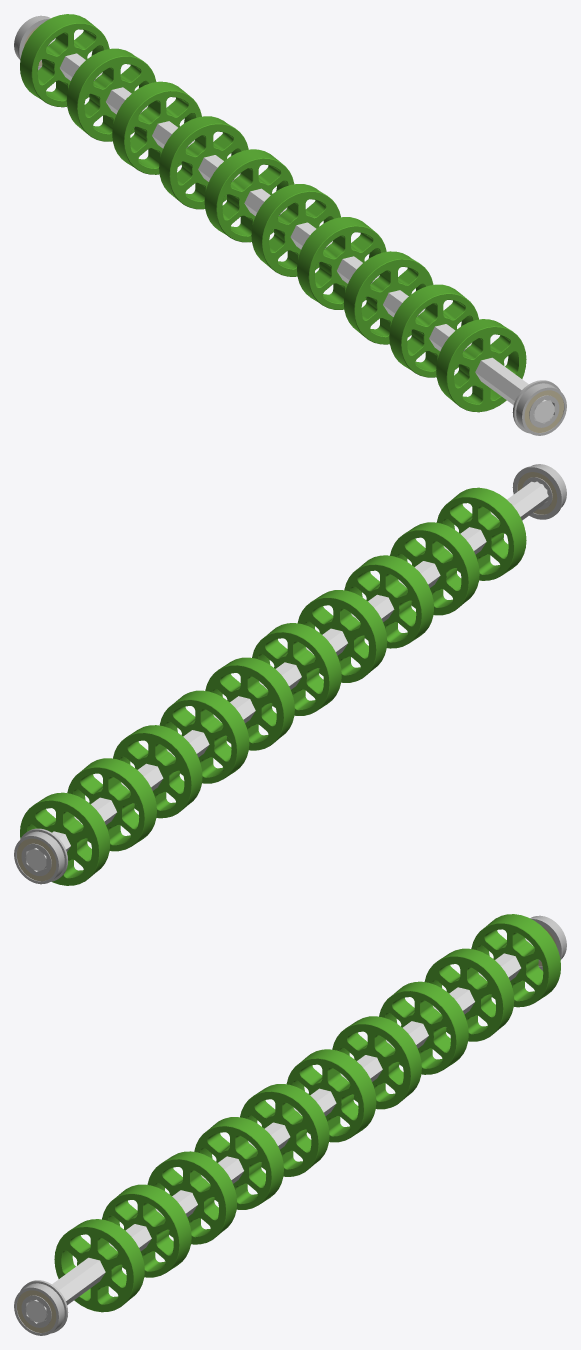
3 views of the same model, one above another, from view 1: azimuth 30°, elevation 25°; view 2: azimuth 150°, elevation 25°; view 3: azimuth 330°, elevation 25° (orthographic).
Visible parts, largest first — view 1: 2" Compliant Wheel (35A, 3/4" Wide, 1/2" Hex Stretch Bore) (×10), 1/2" Hex (22" L, 7075 Aluminum), 1/2" Hex Bore Bearing (1.125" OD, 0.313" WD, Shielded, Flang (×2); view 2: 2" Compliant Wheel (35A, 3/4" Wide, 1/2" Hex Stretch Bore) (×10), 1/2" Hex (22" L, 7075 Aluminum), 1/2" Hex Bore Bearing (1.125" OD, 0.313" WD, Shielded, Flang (×2); view 3: 2" Compliant Wheel (35A, 3/4" Wide, 1/2" Hex Stretch Bore) (×10), 1/2" Hex (22" L, 7075 Aluminum), 1/2" Hex Bore Bearing (1.125" OD, 0.313" WD, Shielded, Flang (×2).
Boxes of the visible parts, box(x1,y1,x2,y2) form: 2" Compliant Wheel (35A, 3/4" Wide, 1/2" Hex Stretch Bore) (×10): box(20, 14, 526, 412); 1/2" Hex (22" L, 7075 Aluminum): box(48, 38, 554, 422); 1/2" Hex Bore Bearing (1.125" OD, 0.313" WD, Shielded, Flang (×2): box(14, 15, 566, 435); 2" Compliant Wheel (35A, 3/4" Wide, 1/2" Hex Stretch Bore) (×10): box(20, 487, 526, 885); 1/2" Hex (22" L, 7075 Aluminum): box(25, 481, 548, 870); 1/2" Hex Bore Bearing (1.125" OD, 0.313" WD, Shielded, Flang (×2): box(14, 464, 566, 884); 2" Compliant Wheel (35A, 3/4" Wide, 1/2" Hex Stretch Bore) (×10): box(54, 914, 560, 1312); 1/2" Hex (22" L, 7075 Aluminum): box(25, 938, 532, 1322); 1/2" Hex Bore Bearing (1.125" OD, 0.313" WD, Shielded, Flang (×2): box(14, 915, 566, 1335).
Bounding box in the file's own units: 0.0508 × 0.0508 × 0.5588.
